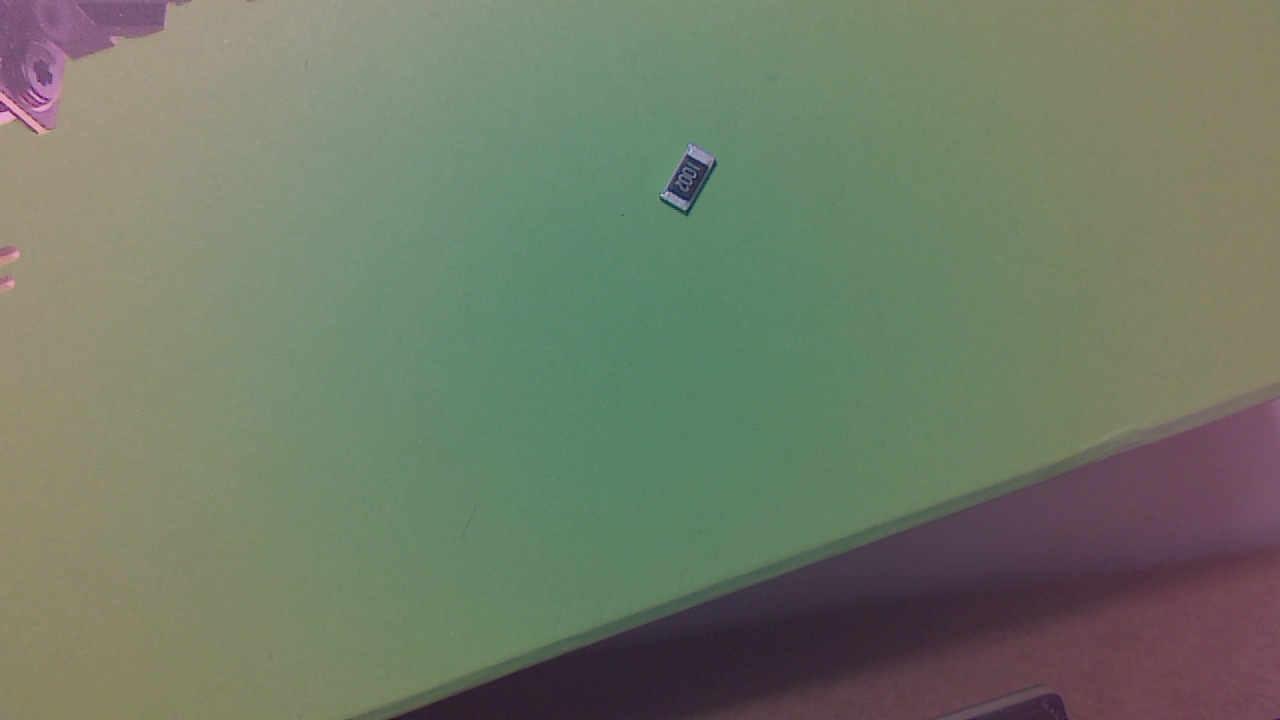Resistor: (665, 151, 726, 220)
